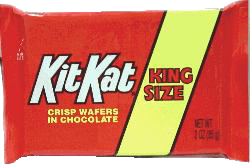grozi_30: (0, 0, 250, 163)
